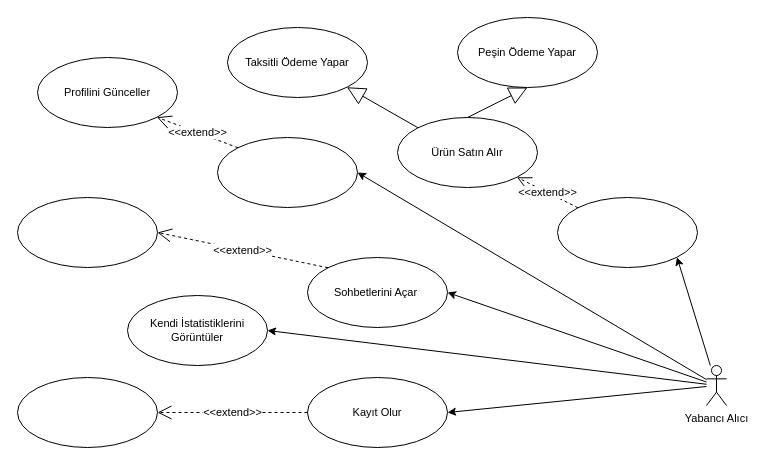
This 765x465 diagram has some shape labels left out. The centre of each missing label's shape, as x and y in pixels:
Giriş Yapar: [87,412]
Mesajlaşır: [87,232]
Profilini Görüntüler: [287,172]
Ürün Arar: [627,232]
